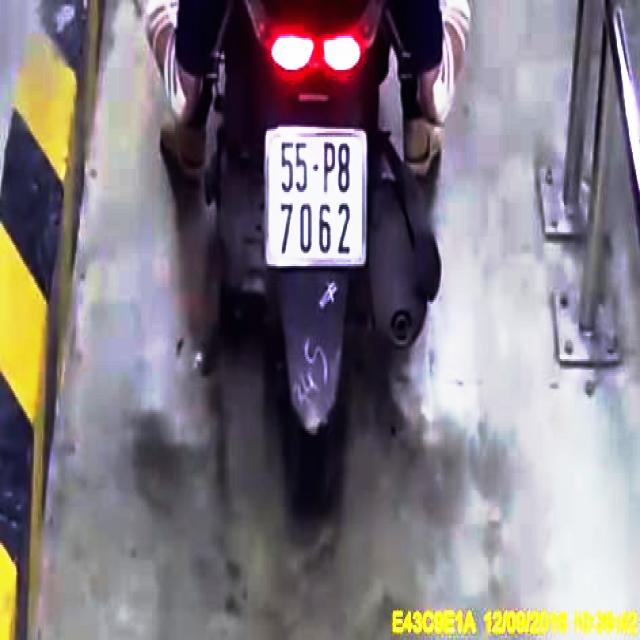license_plate: (267, 131, 366, 265)
